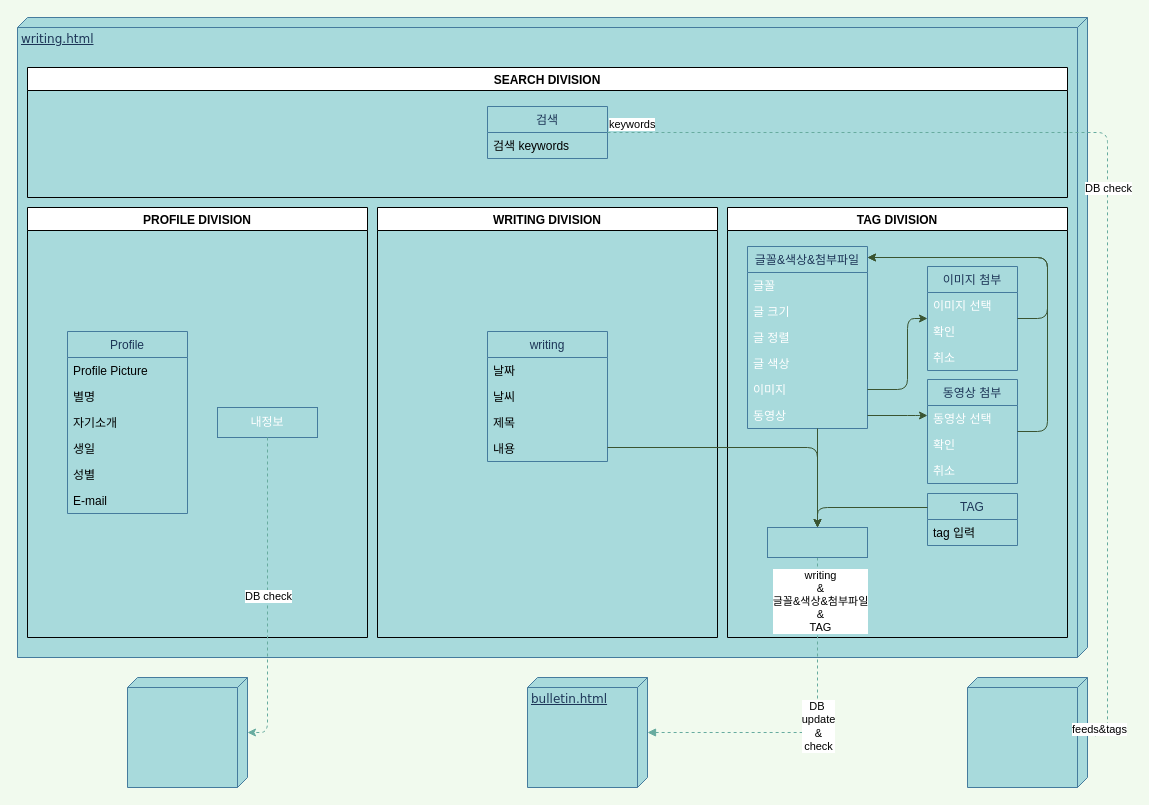
Some shapes in this 1149 by 805 pixel diagram are drawn without their labels. The shapes that lost their labels are listed below. From the top down, each one's centre as x and y in pixels, then its label:
At [817,542]: "게시하기".
At [187,732]: "myinfo.html".
At [1027,732]: "feeds.html".
